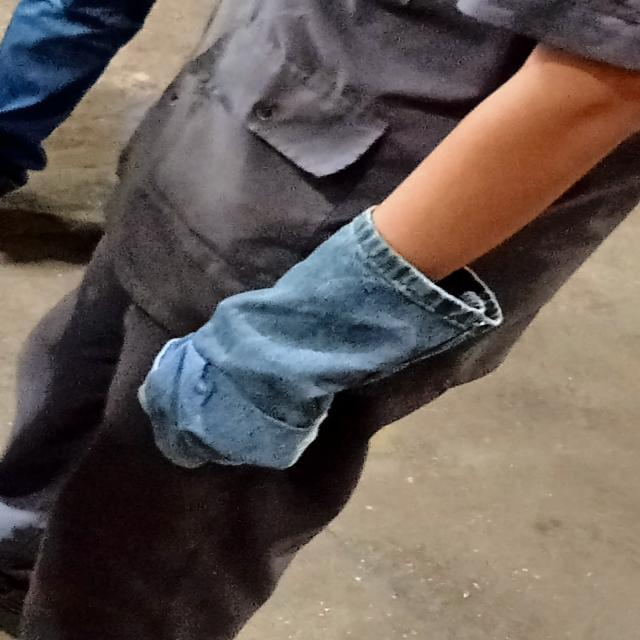Gloves-Detection: (146, 211, 500, 471)
